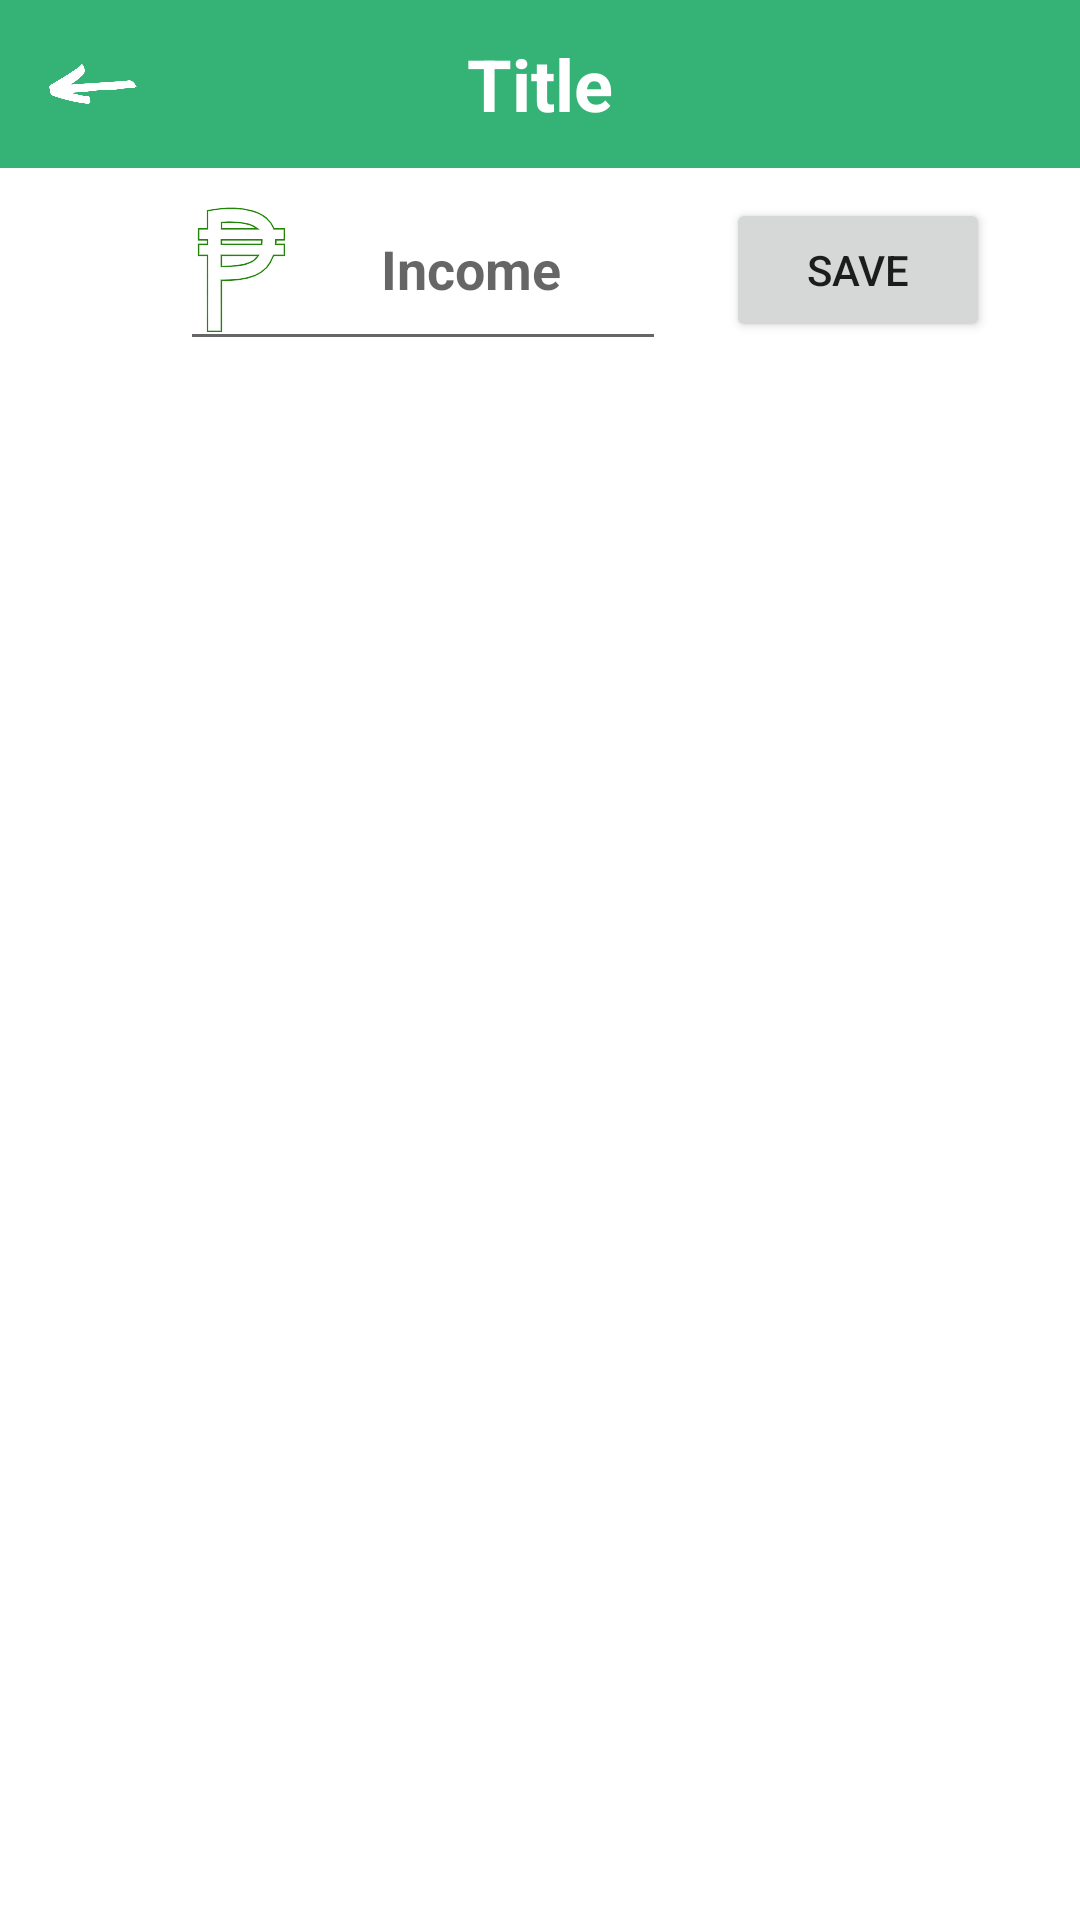

Icon bounding boxes for this 1080*1920 phone screenshot, format bbox=(x1, y1, x2, y2):
back: bbox=(49, 64, 137, 104)
